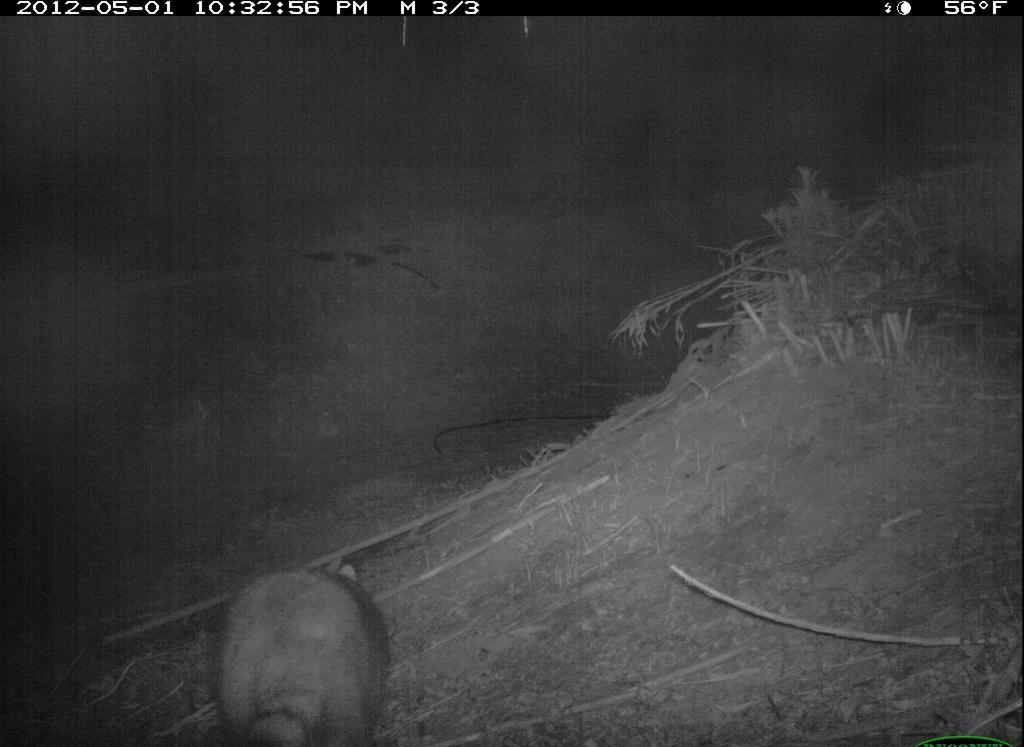raccoon: (198, 557, 401, 745)
